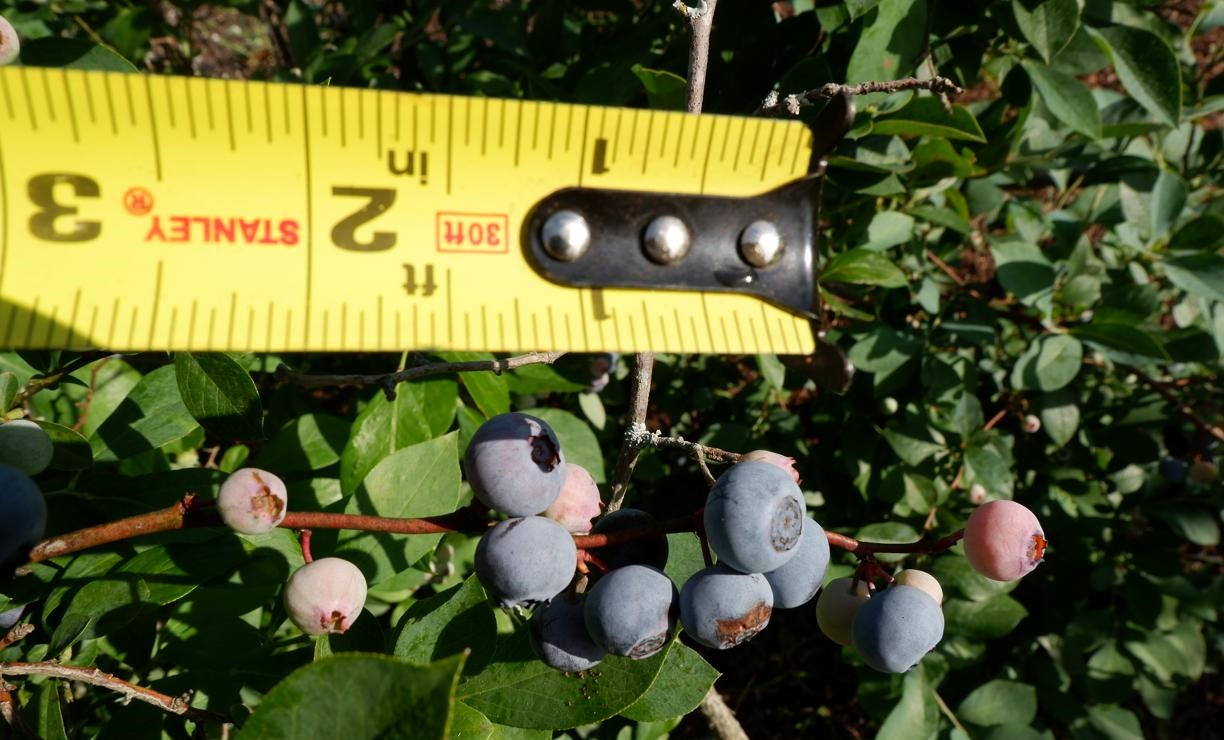Immature: (283, 558, 367, 637), (964, 500, 1046, 580), (587, 510, 669, 583), (216, 468, 290, 536), (542, 463, 603, 535), (816, 577, 871, 648), (889, 568, 943, 614), (740, 450, 801, 486)
Mature: (704, 461, 807, 575), (465, 413, 568, 518), (473, 516, 576, 611), (585, 565, 681, 661), (851, 586, 944, 674), (680, 566, 773, 648), (528, 592, 607, 672), (763, 516, 829, 608)
